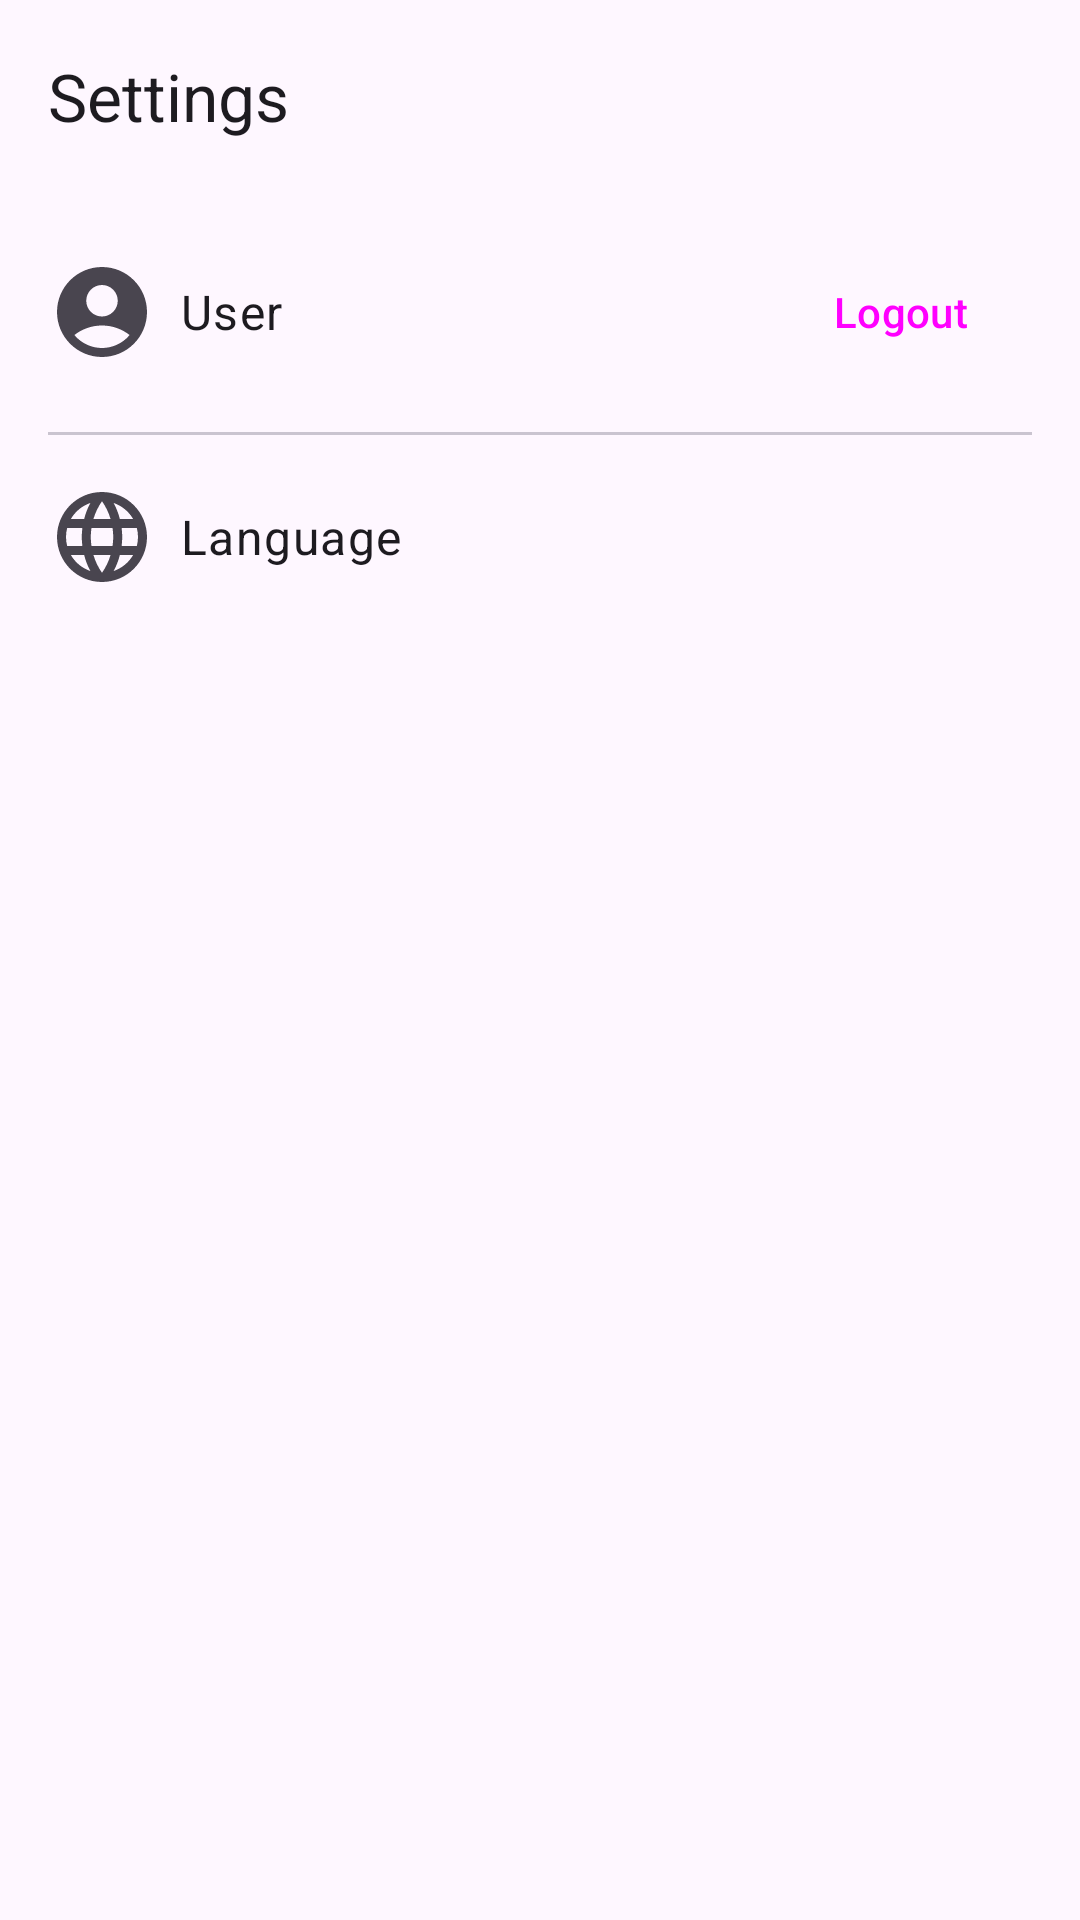

Named icons in this screenshot (1080px×1920px) and their centers, [x,y]:
account circle: [102,312]
